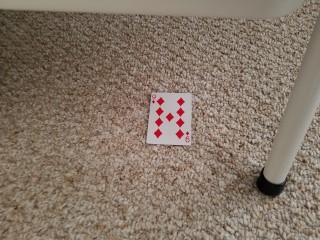NineOfDiamonds: (146, 92, 193, 146)
